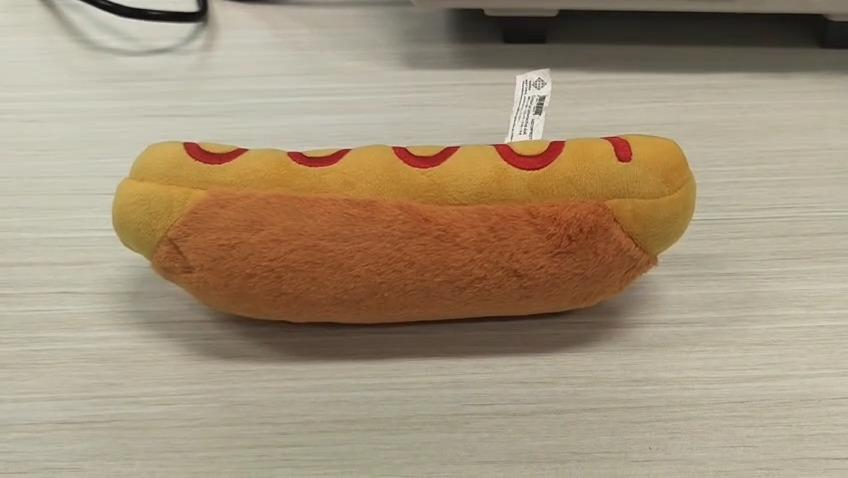hotdog: (111, 135, 697, 325)
